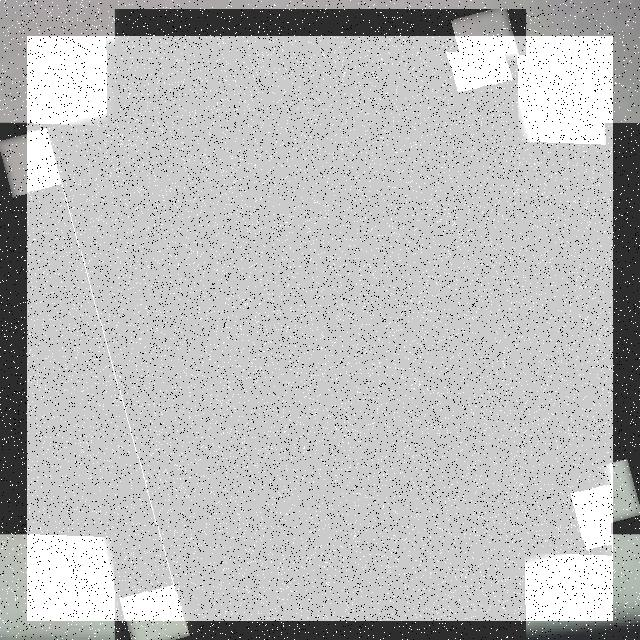dua ribu rupiah: (27, 36, 613, 621)
